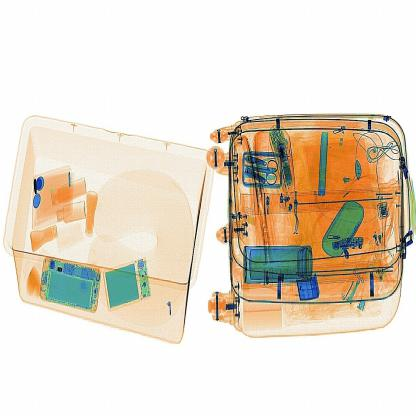pliers: (317, 127, 333, 198)
